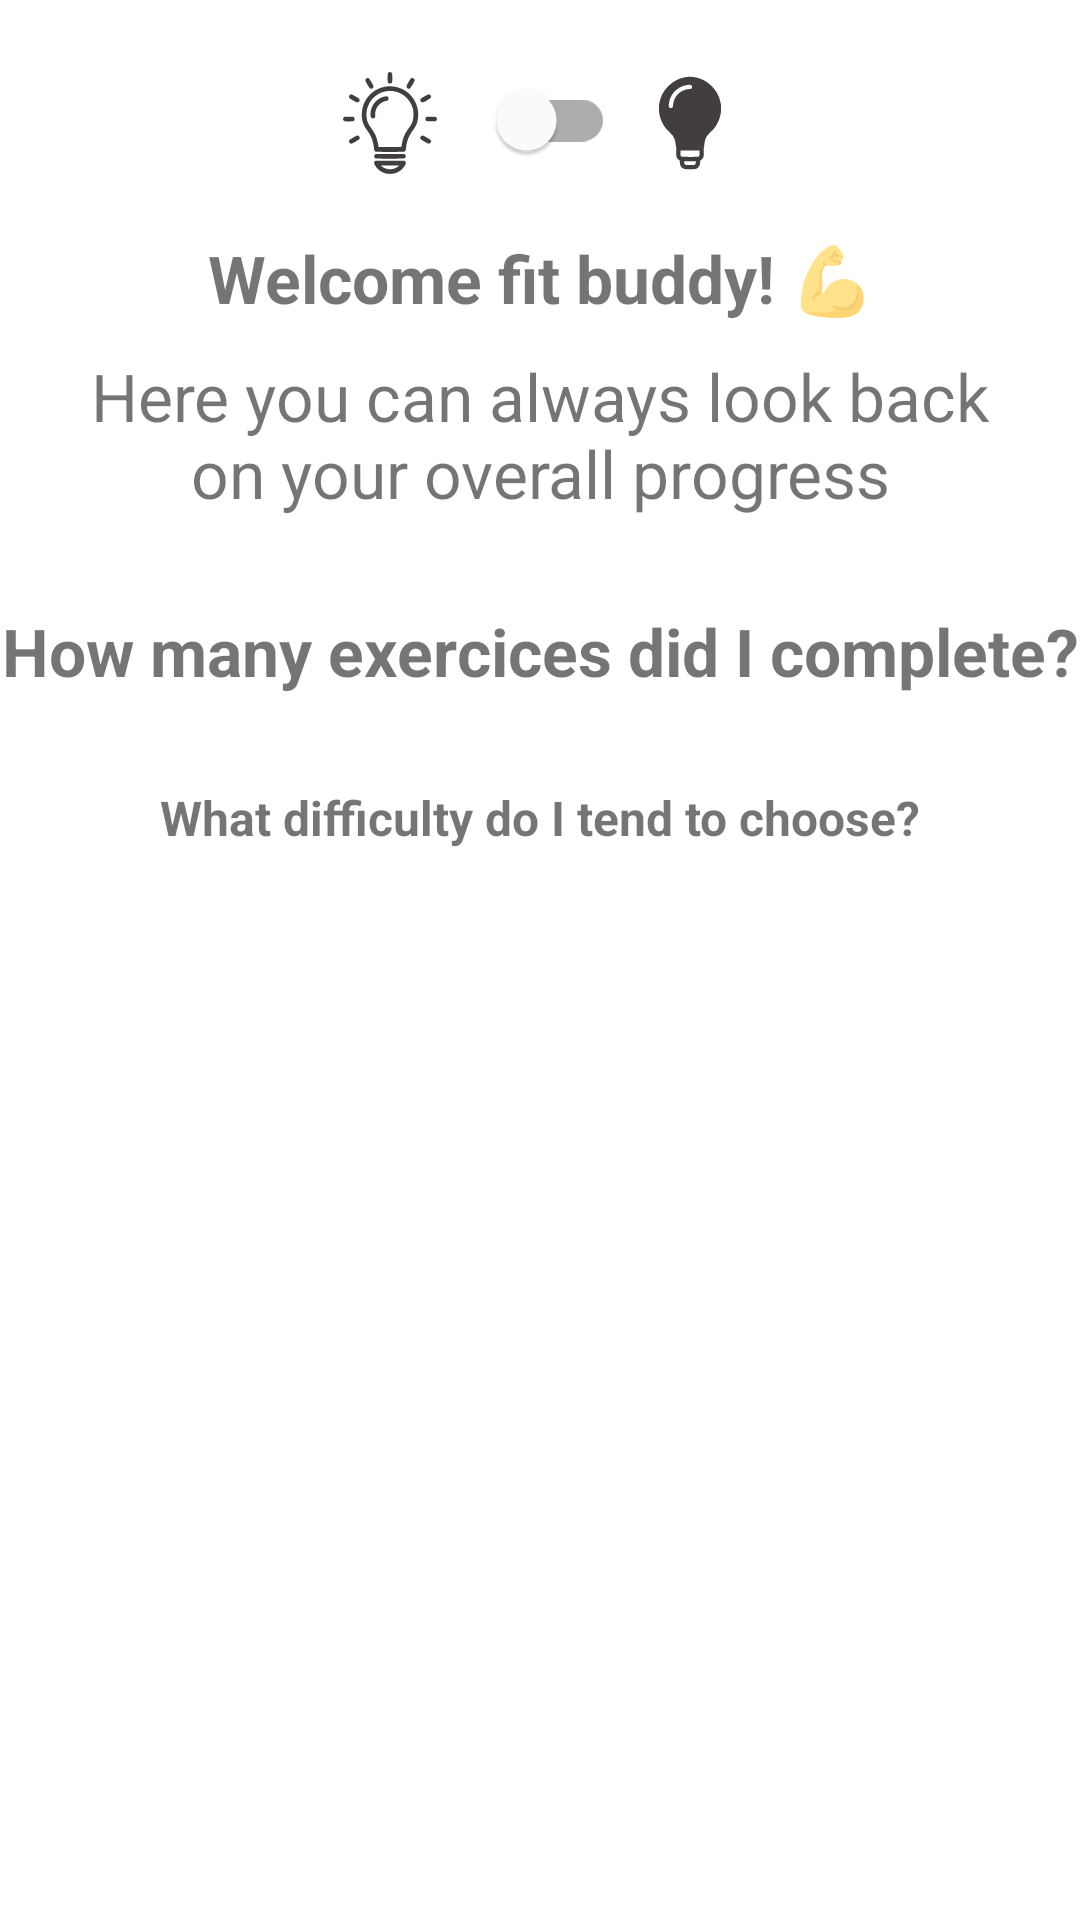

Point at icon controls on the screen. Image size 1080*1920, points as (x,y).
bulb: (390,123)
bulb night: (690,123)
